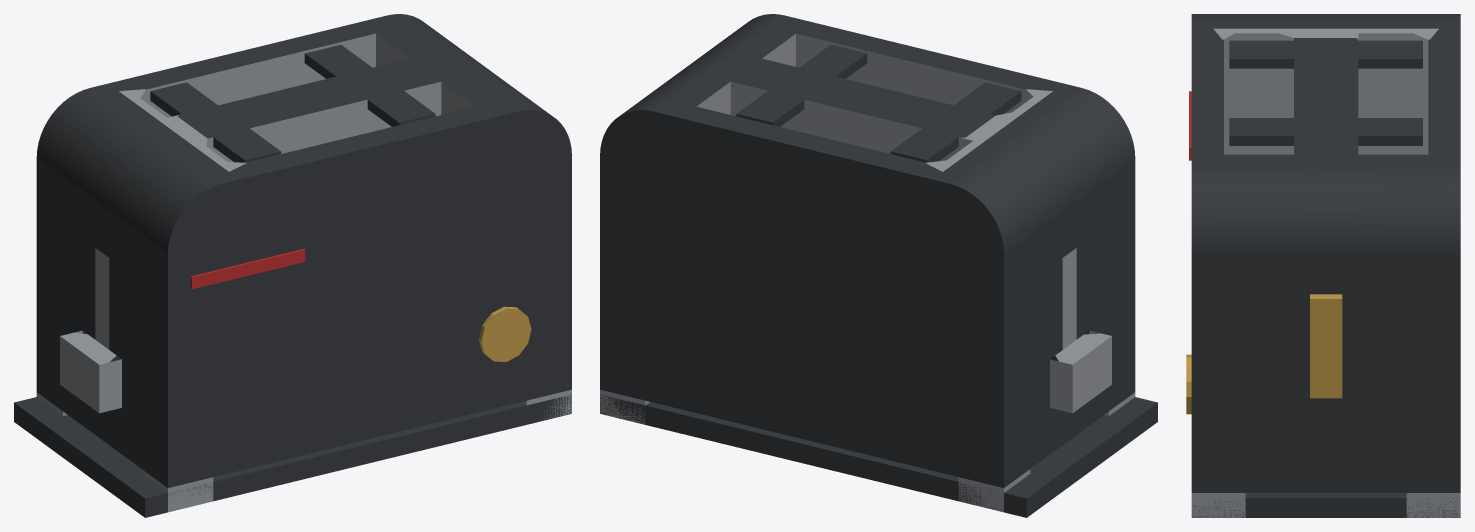
File: toaster.glb
3 renders of one model, left to right at view 1: azimuth 30°, elevation 25°; view 2: azimuth 150°, elevation 25°; view 3: azimuth 270°, elevation 25°, orthographic. The views are drawn at different scales.
Visible parts, largest first — view 1: toaster(Clone); view 2: toaster(Clone); view 3: toaster(Clone).
Boxes of the visible parts, x1,y1,x2,y2 form: toaster(Clone): [14, 14, 571, 517]; toaster(Clone): [600, 14, 1157, 517]; toaster(Clone): [1186, 14, 1460, 517].
Bounding box in the file's own units: 0.188 × 0.13 × 0.1.
